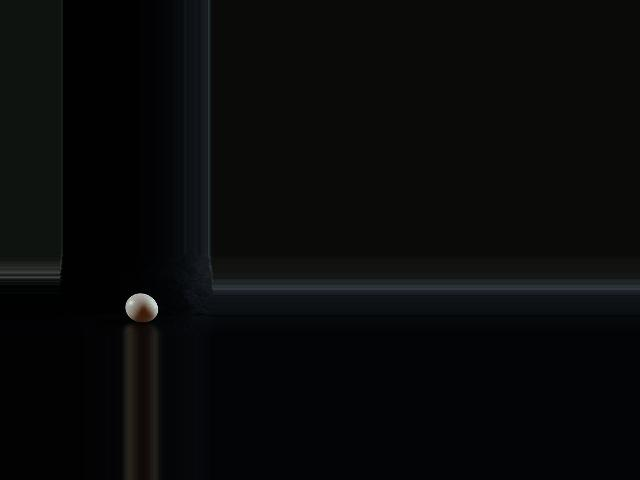egg: (125, 292, 158, 322)
